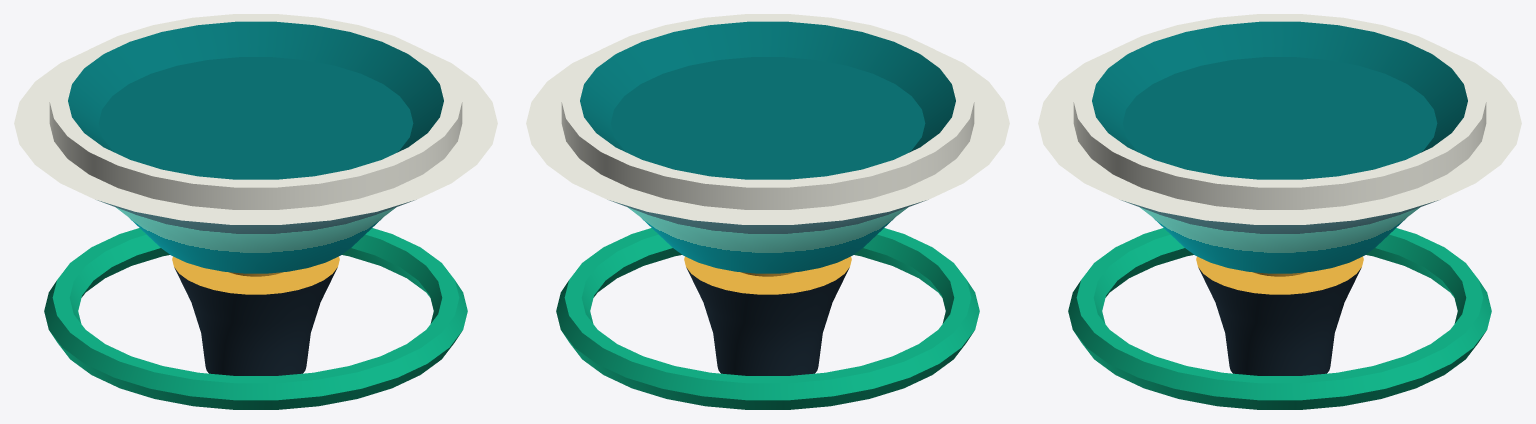
Rendered from Buildings_Building_1.fbx.
3 views of the same model, side by side, from view 1: azimuth 30°, elevation 25°; view 2: azimuth 150°, elevation 25°; view 3: azimuth 270°, elevation 25° (orthographic).
Visible parts, largest first — view 1: Building_1; view 2: Building_1; view 3: Building_1.
Part boxes in pixels (x1=…): Building_1: x1=14, y1=14, x2=497, y2=409; Building_1: x1=526, y1=14, x2=1009, y2=409; Building_1: x1=1038, y1=14, x2=1521, y2=409.
Bounding box in the file's own units: 170 × 103 × 171.
